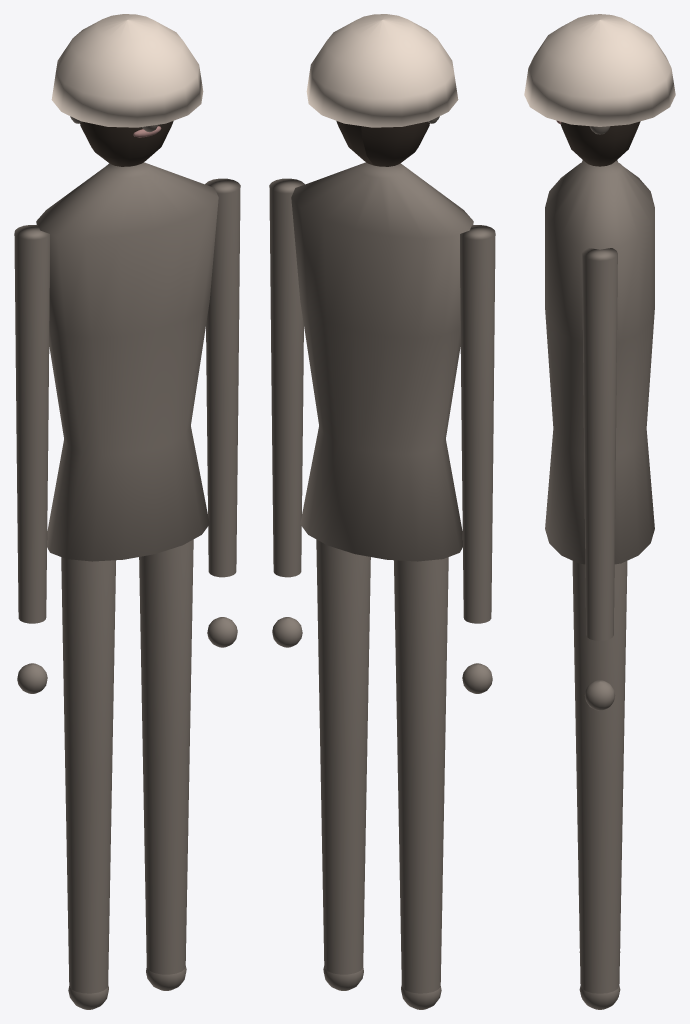
Rendered from avatar_mesh.glb.
The picture shows the model from 3 angles, left to right: view 1: azimuth 30°, elevation 25°; view 2: azimuth 150°, elevation 25°; view 3: azimuth 270°, elevation 25°; orthographic projection.
Visible parts, largest first — view 1: avatar; view 2: avatar; view 3: avatar.
Boxes of the visible parts, x1=… form: avatar: x1=14, y1=14, x2=240, y2=1009; avatar: x1=269, y1=14, x2=495, y2=1009; avatar: x1=524, y1=14, x2=675, y2=1009.
Size of the model in its own units: 0.56 by 2.36 by 0.3349.
Materials: 6 (1 with a texture image).
